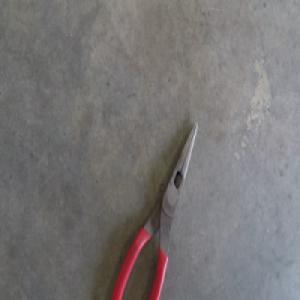Pliers: (109, 121, 198, 298)
